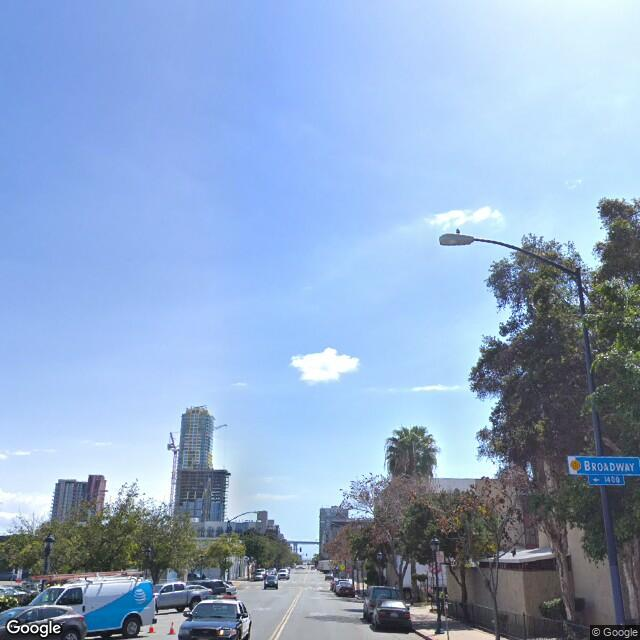light: (435, 233, 483, 247)
